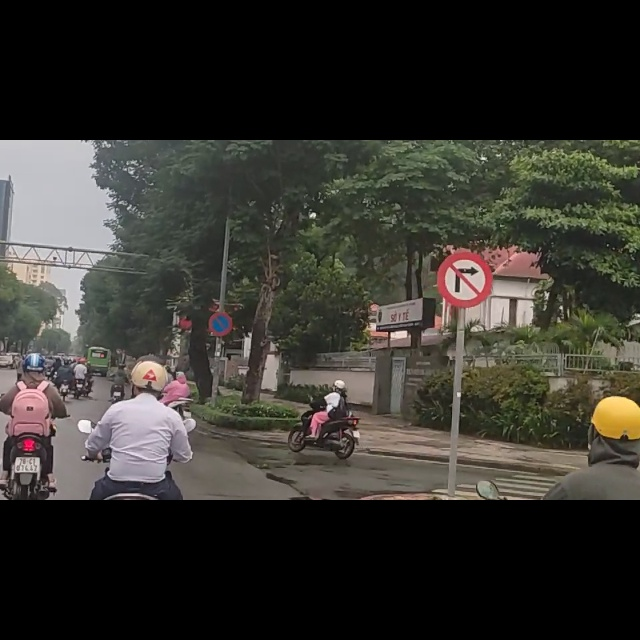bien_cam: (436, 193, 493, 299), (209, 303, 233, 350)
